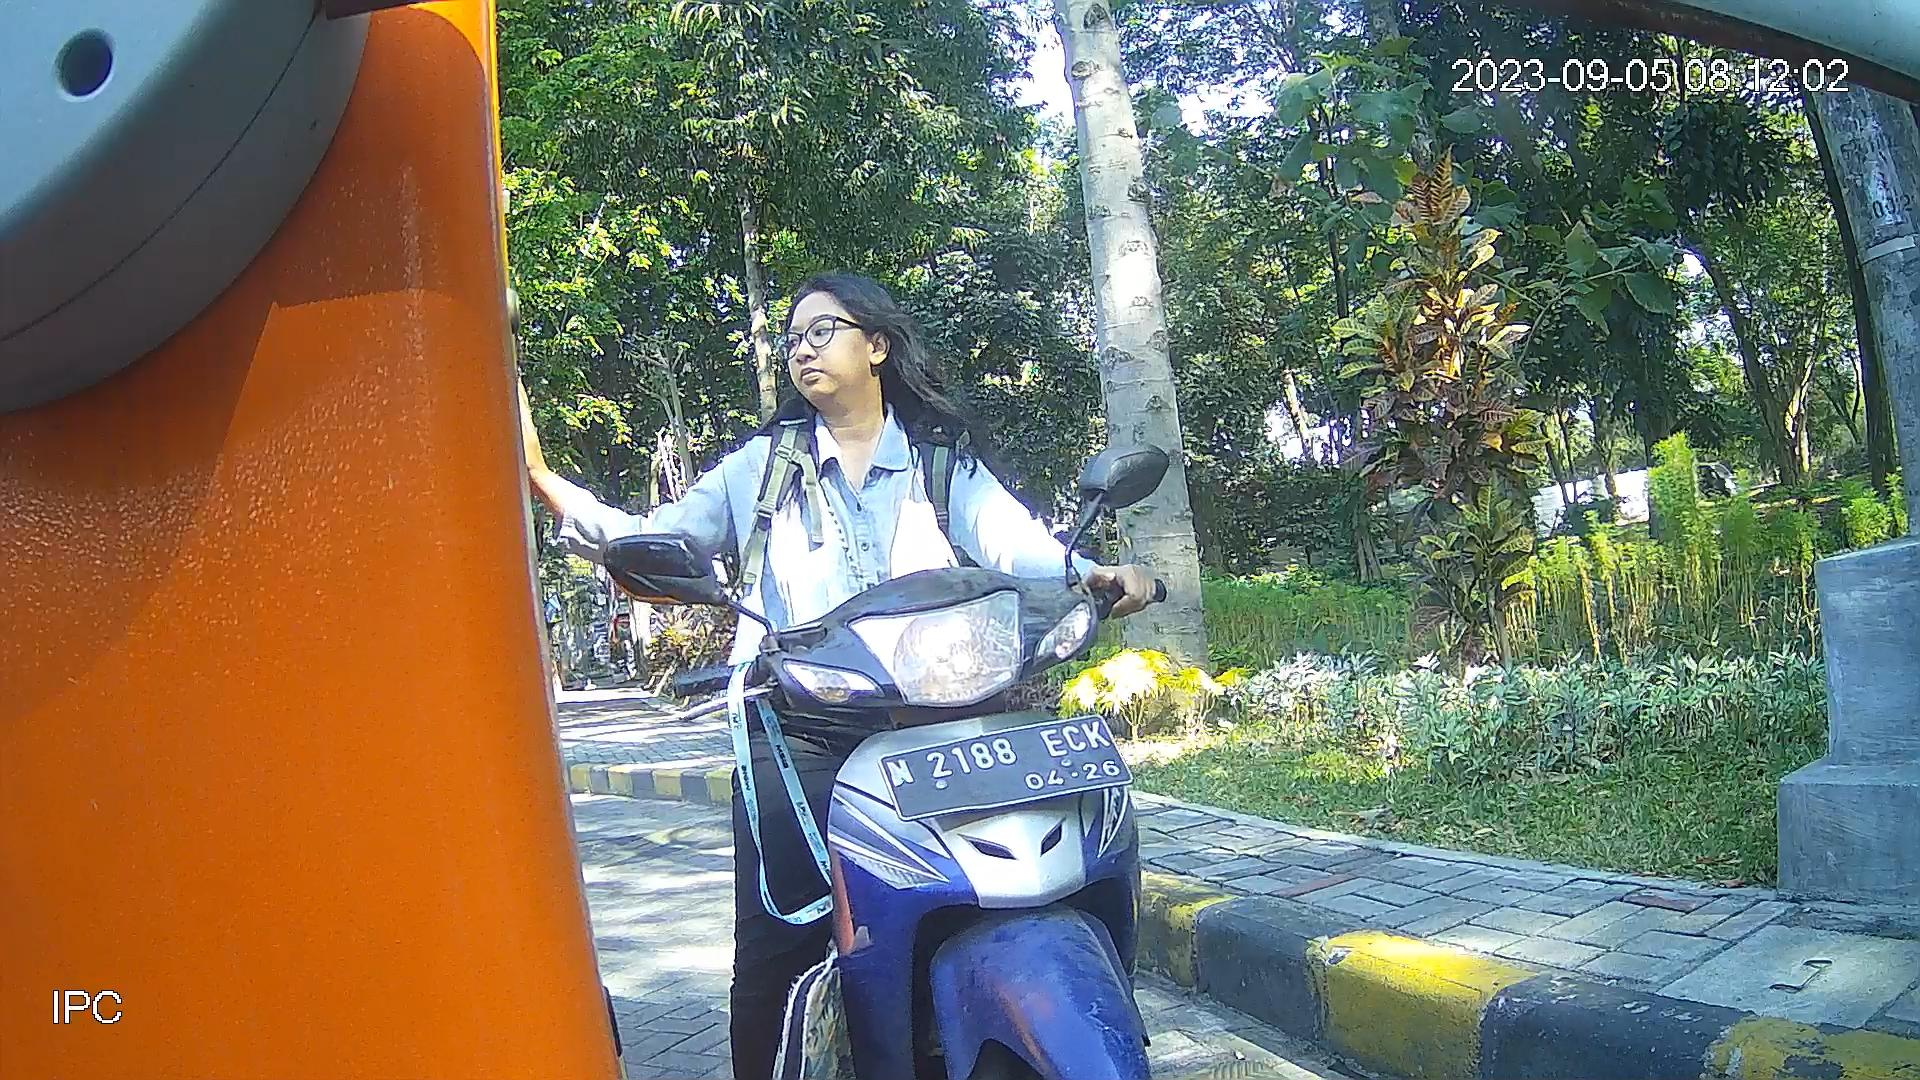plat: (874, 711, 1139, 823)
